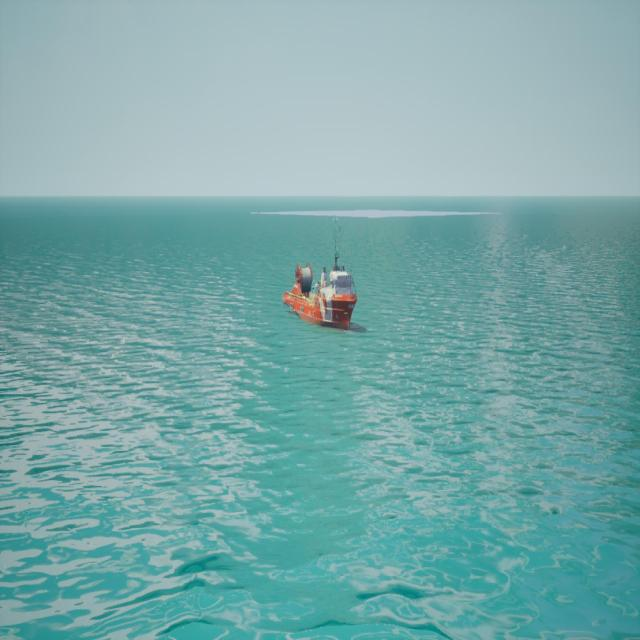tug boat: (285, 222, 360, 334)
